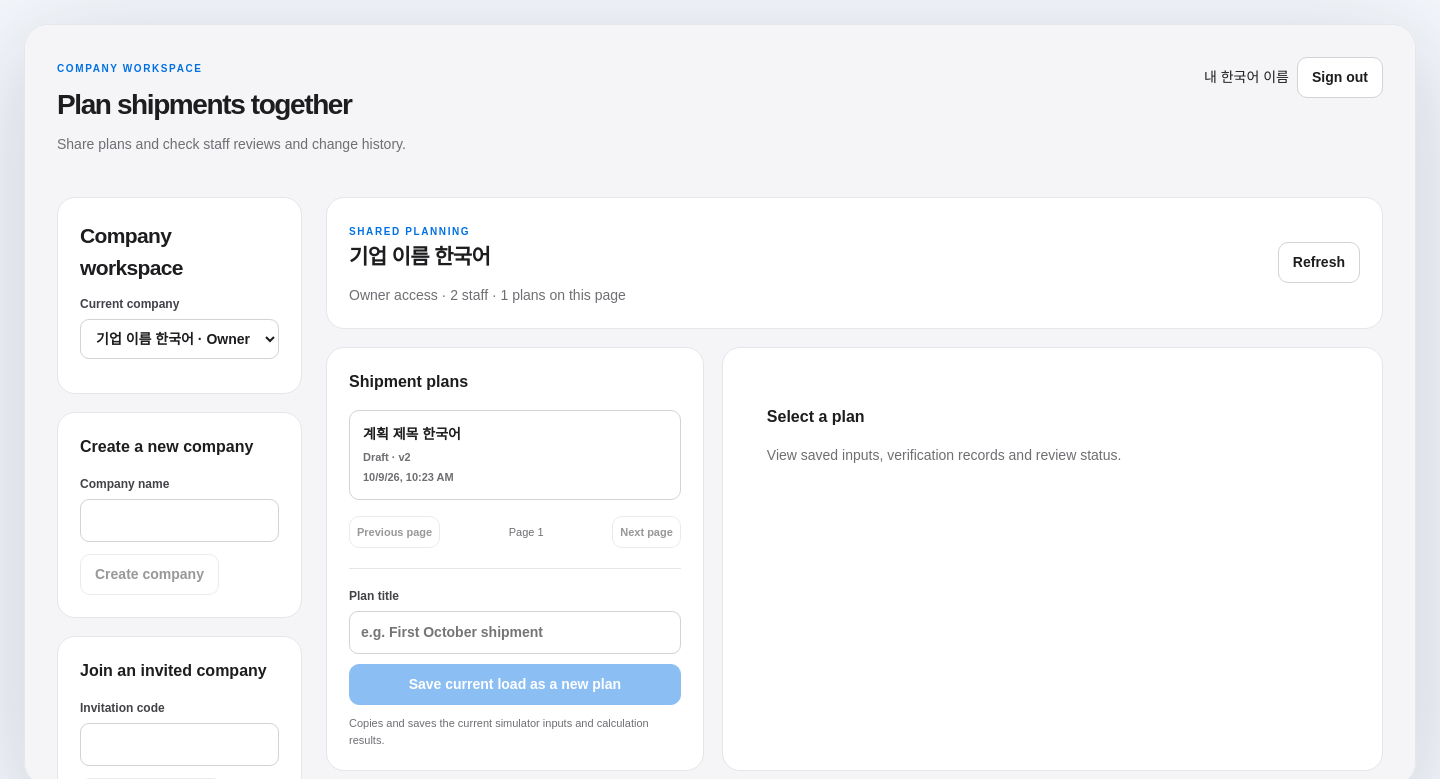
Test case: translates shared plans, diagnostics and dates without modifying user content in en
Click the button "계획 제목 한국어 Draft · v2 10/9/26, 10:23 AM" at (412, 434), box 349,410 -> 681,500
(page scrolled)
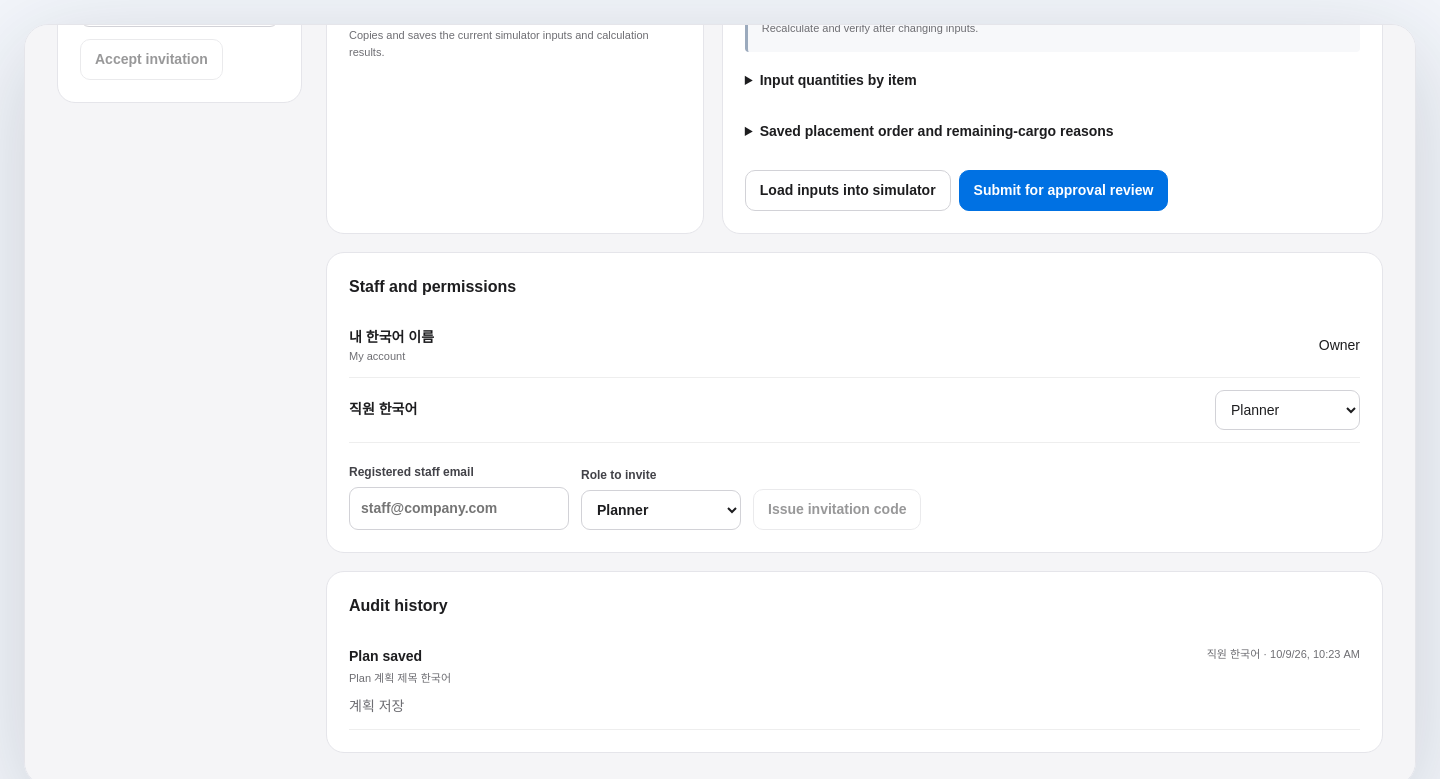
Check: the text "직원 한국어" is shown, box 349,399 -> 417,420
Check: the text "계획 저장" is shown, box 349,698 -> 404,714
Check: the text "Staff and permissions" is shown, box 349,278 -> 516,295
